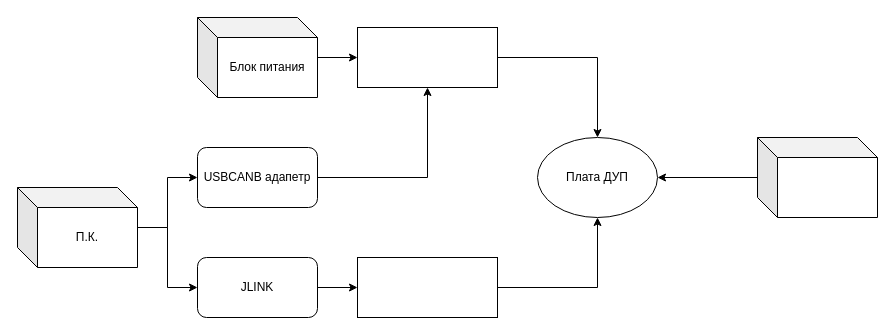
This 895x335 diagram has some shape labels left out. The shapes that lost their labels are listed below. From the top down, each one's centre as x and y in pixels, then its label:
At pixel 427 57: "Адаптер для подключения ДУП".
At pixel 817 177: "Магниты".
At pixel 427 287: "Адаптер JLINK под SWD порт платы".
